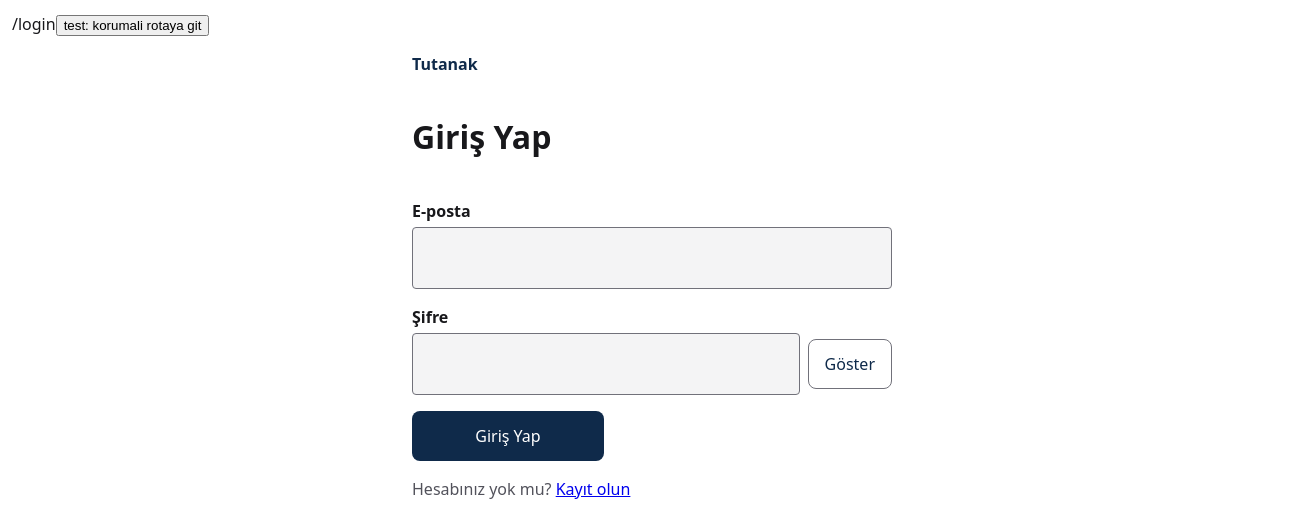
Test: AppRoutes › rota haritasi (design.md §1 ekran envanteri) › /login rotasindaki form gonderildiginde API istemcisini kullanir
The image size is (1292, 516).
In the field labelled "E-posta": (652, 258) left=412, top=227, right=892, bottom=289, type "selin@ornek.com"
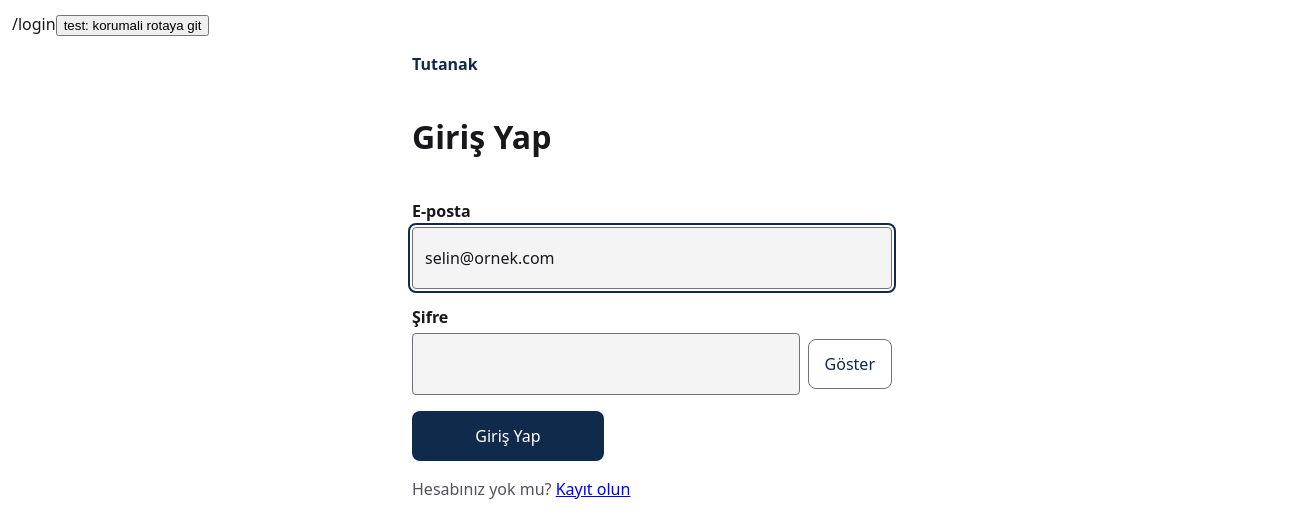
In the password field labelled "Şifre": (606, 364) left=412, top=333, right=800, bottom=395, type "cok-gizli-8"
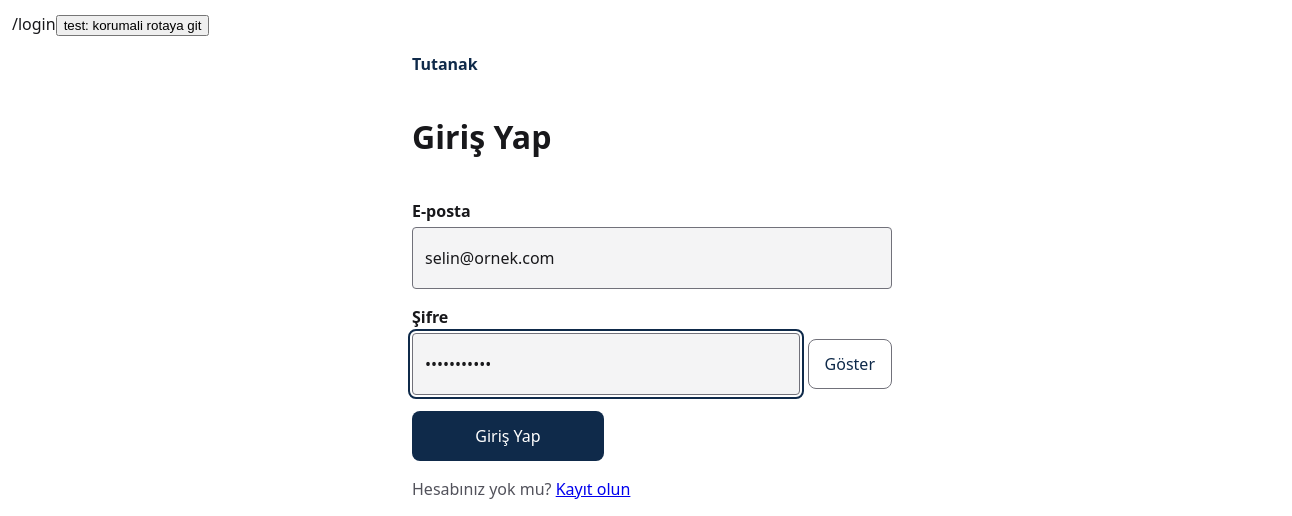
Click the button "Giriş Yap": click(508, 436) left=412, top=411, right=604, bottom=461
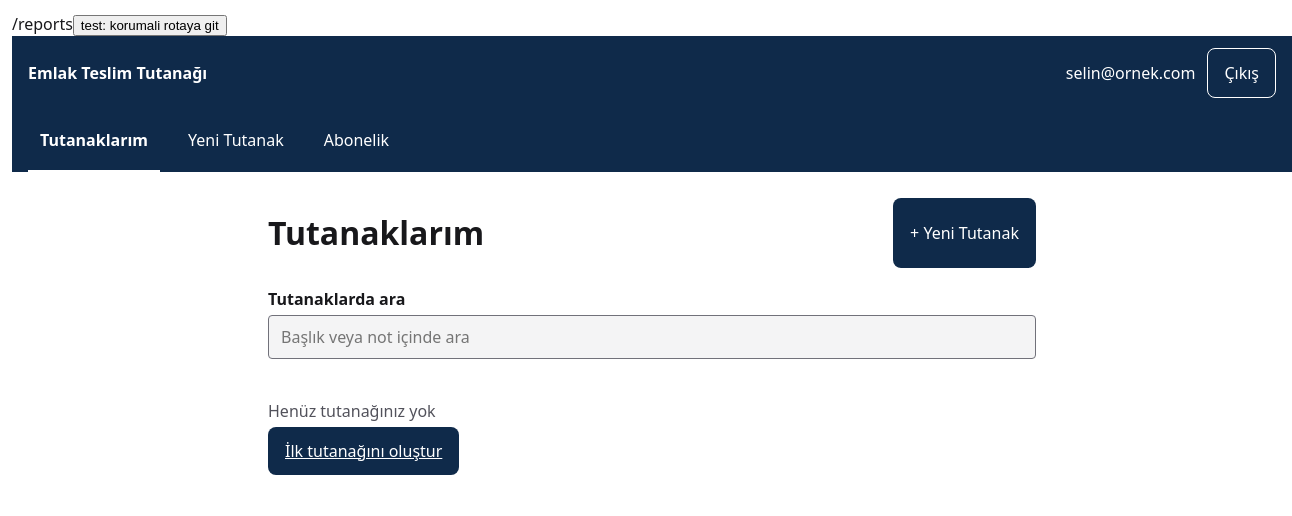
Now the heading "Tutanaklarım" is shown, box left=268, top=209, right=484, bottom=257
